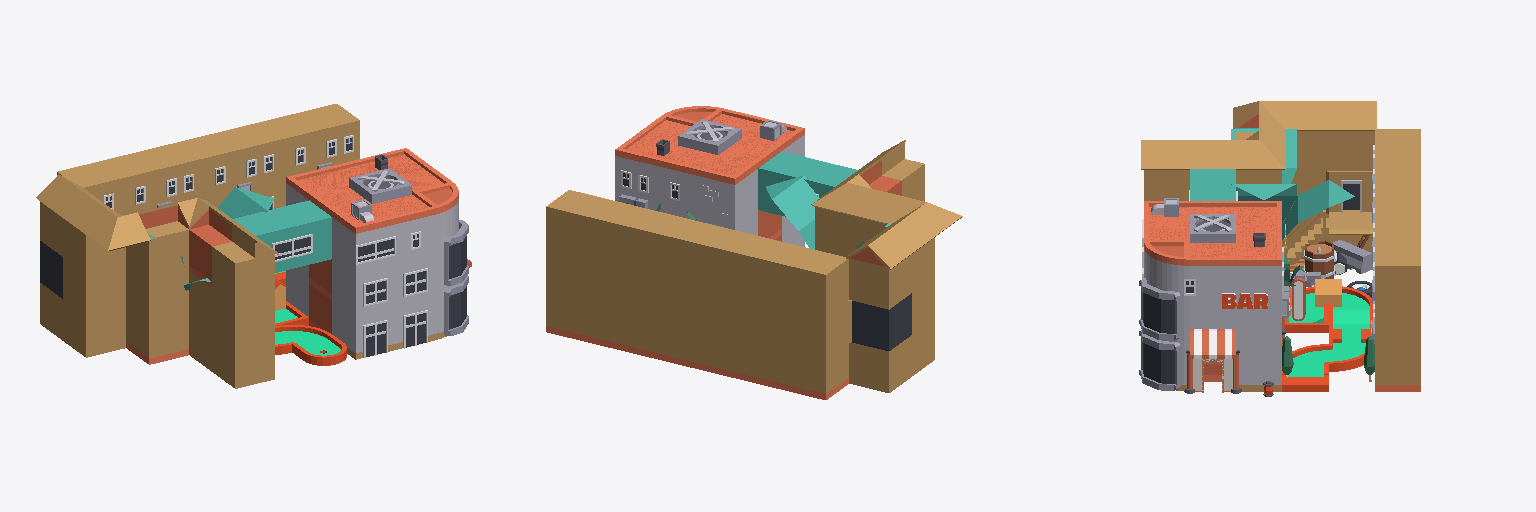
The model's file is PH_luckycat.model.obj.
3 views of the same model, side by side, from view 1: azimuth 30°, elevation 25°; view 2: azimuth 150°, elevation 25°; view 3: azimuth 270°, elevation 25° (orthographic).
Size of the model in its own units: 8.57 by 3.94 by 6.1.